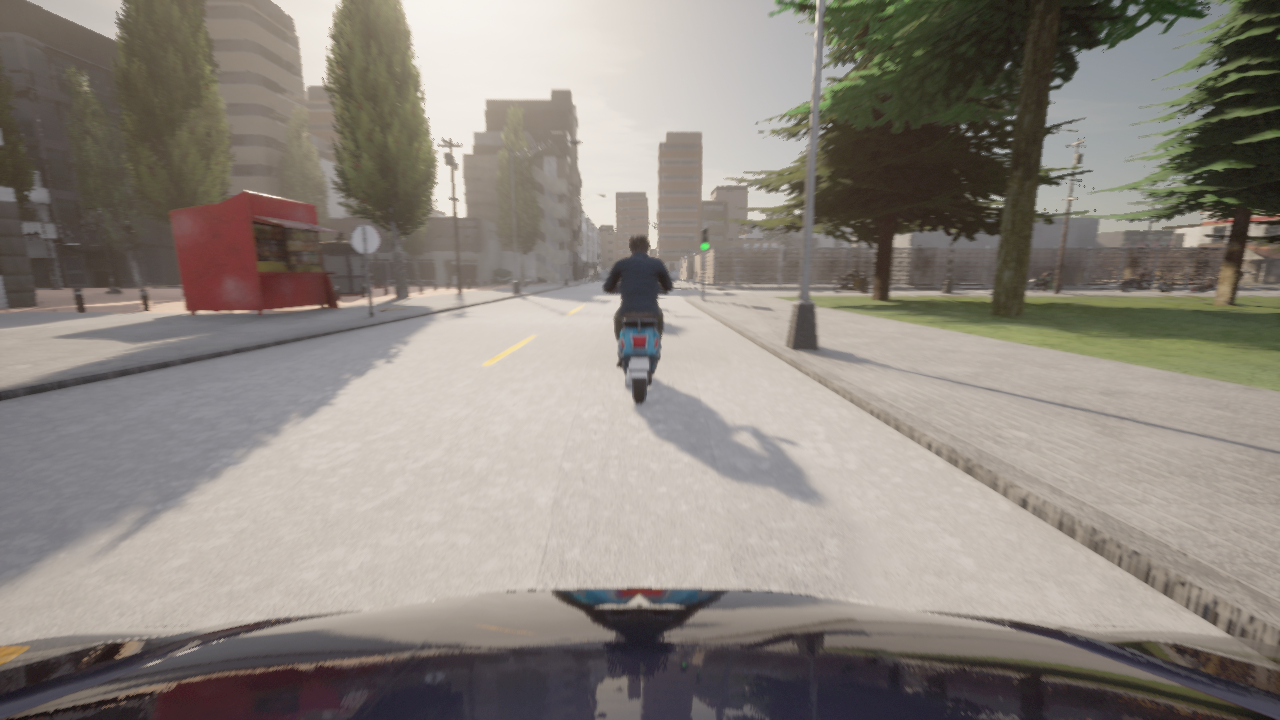cyclist: (0, 588, 1279, 719), (599, 270, 679, 403), (1190, 271, 1244, 292), (1120, 271, 1173, 292), (833, 273, 870, 292), (1029, 275, 1063, 292), (755, 271, 777, 280), (828, 268, 844, 278), (732, 267, 746, 278), (763, 273, 778, 279), (791, 271, 800, 278), (864, 269, 870, 272), (858, 271, 861, 272)
